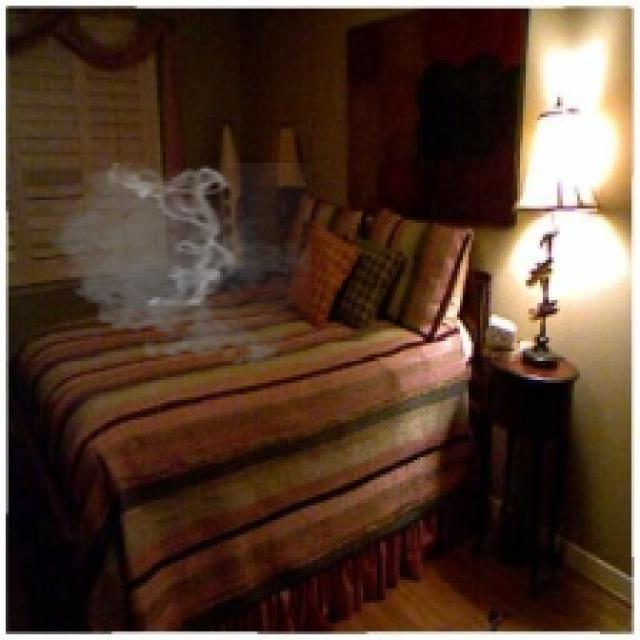Smoke: (35, 160, 312, 372)
